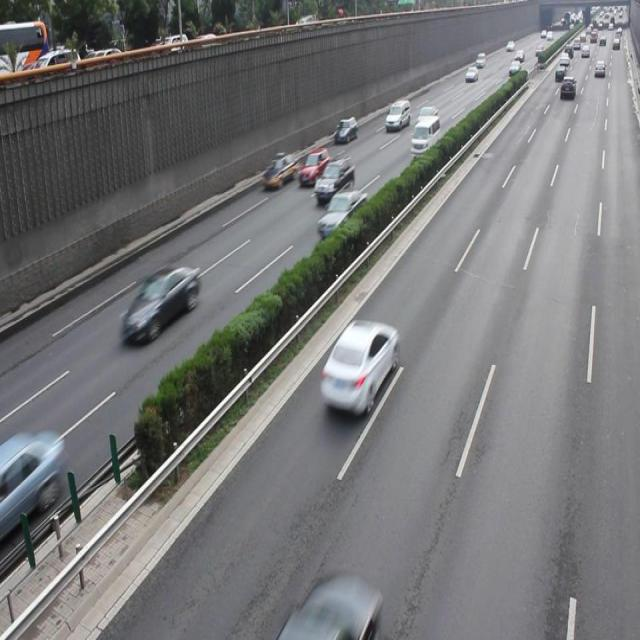car: (317, 319, 397, 418), (0, 428, 62, 536), (120, 264, 200, 343), (315, 190, 367, 238), (313, 156, 354, 201), (298, 146, 329, 186), (262, 152, 297, 186)
